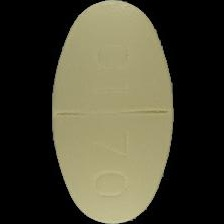52959-800: (0, 0, 224, 224)
